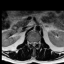CCS_normal: (32, 38, 34, 49)
LFS_normal: (36, 39, 38, 45)
LLS_normal: (34, 38, 36, 47)
RFS_normal: (28, 39, 30, 46)
RLS_normal: (30, 39, 32, 46)
